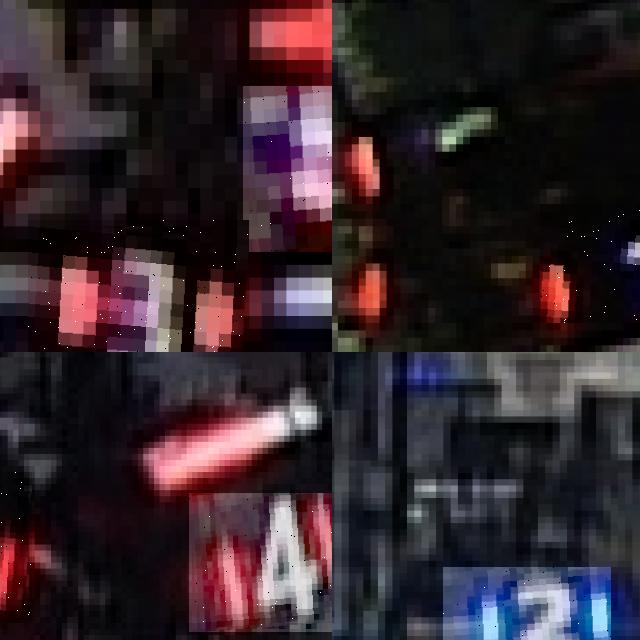B2: (443, 567, 610, 640)
R1: (539, 204, 640, 323)
R3: (27, 219, 249, 352), (243, 85, 332, 252)
R4: (189, 493, 332, 632), (0, 472, 32, 623)
